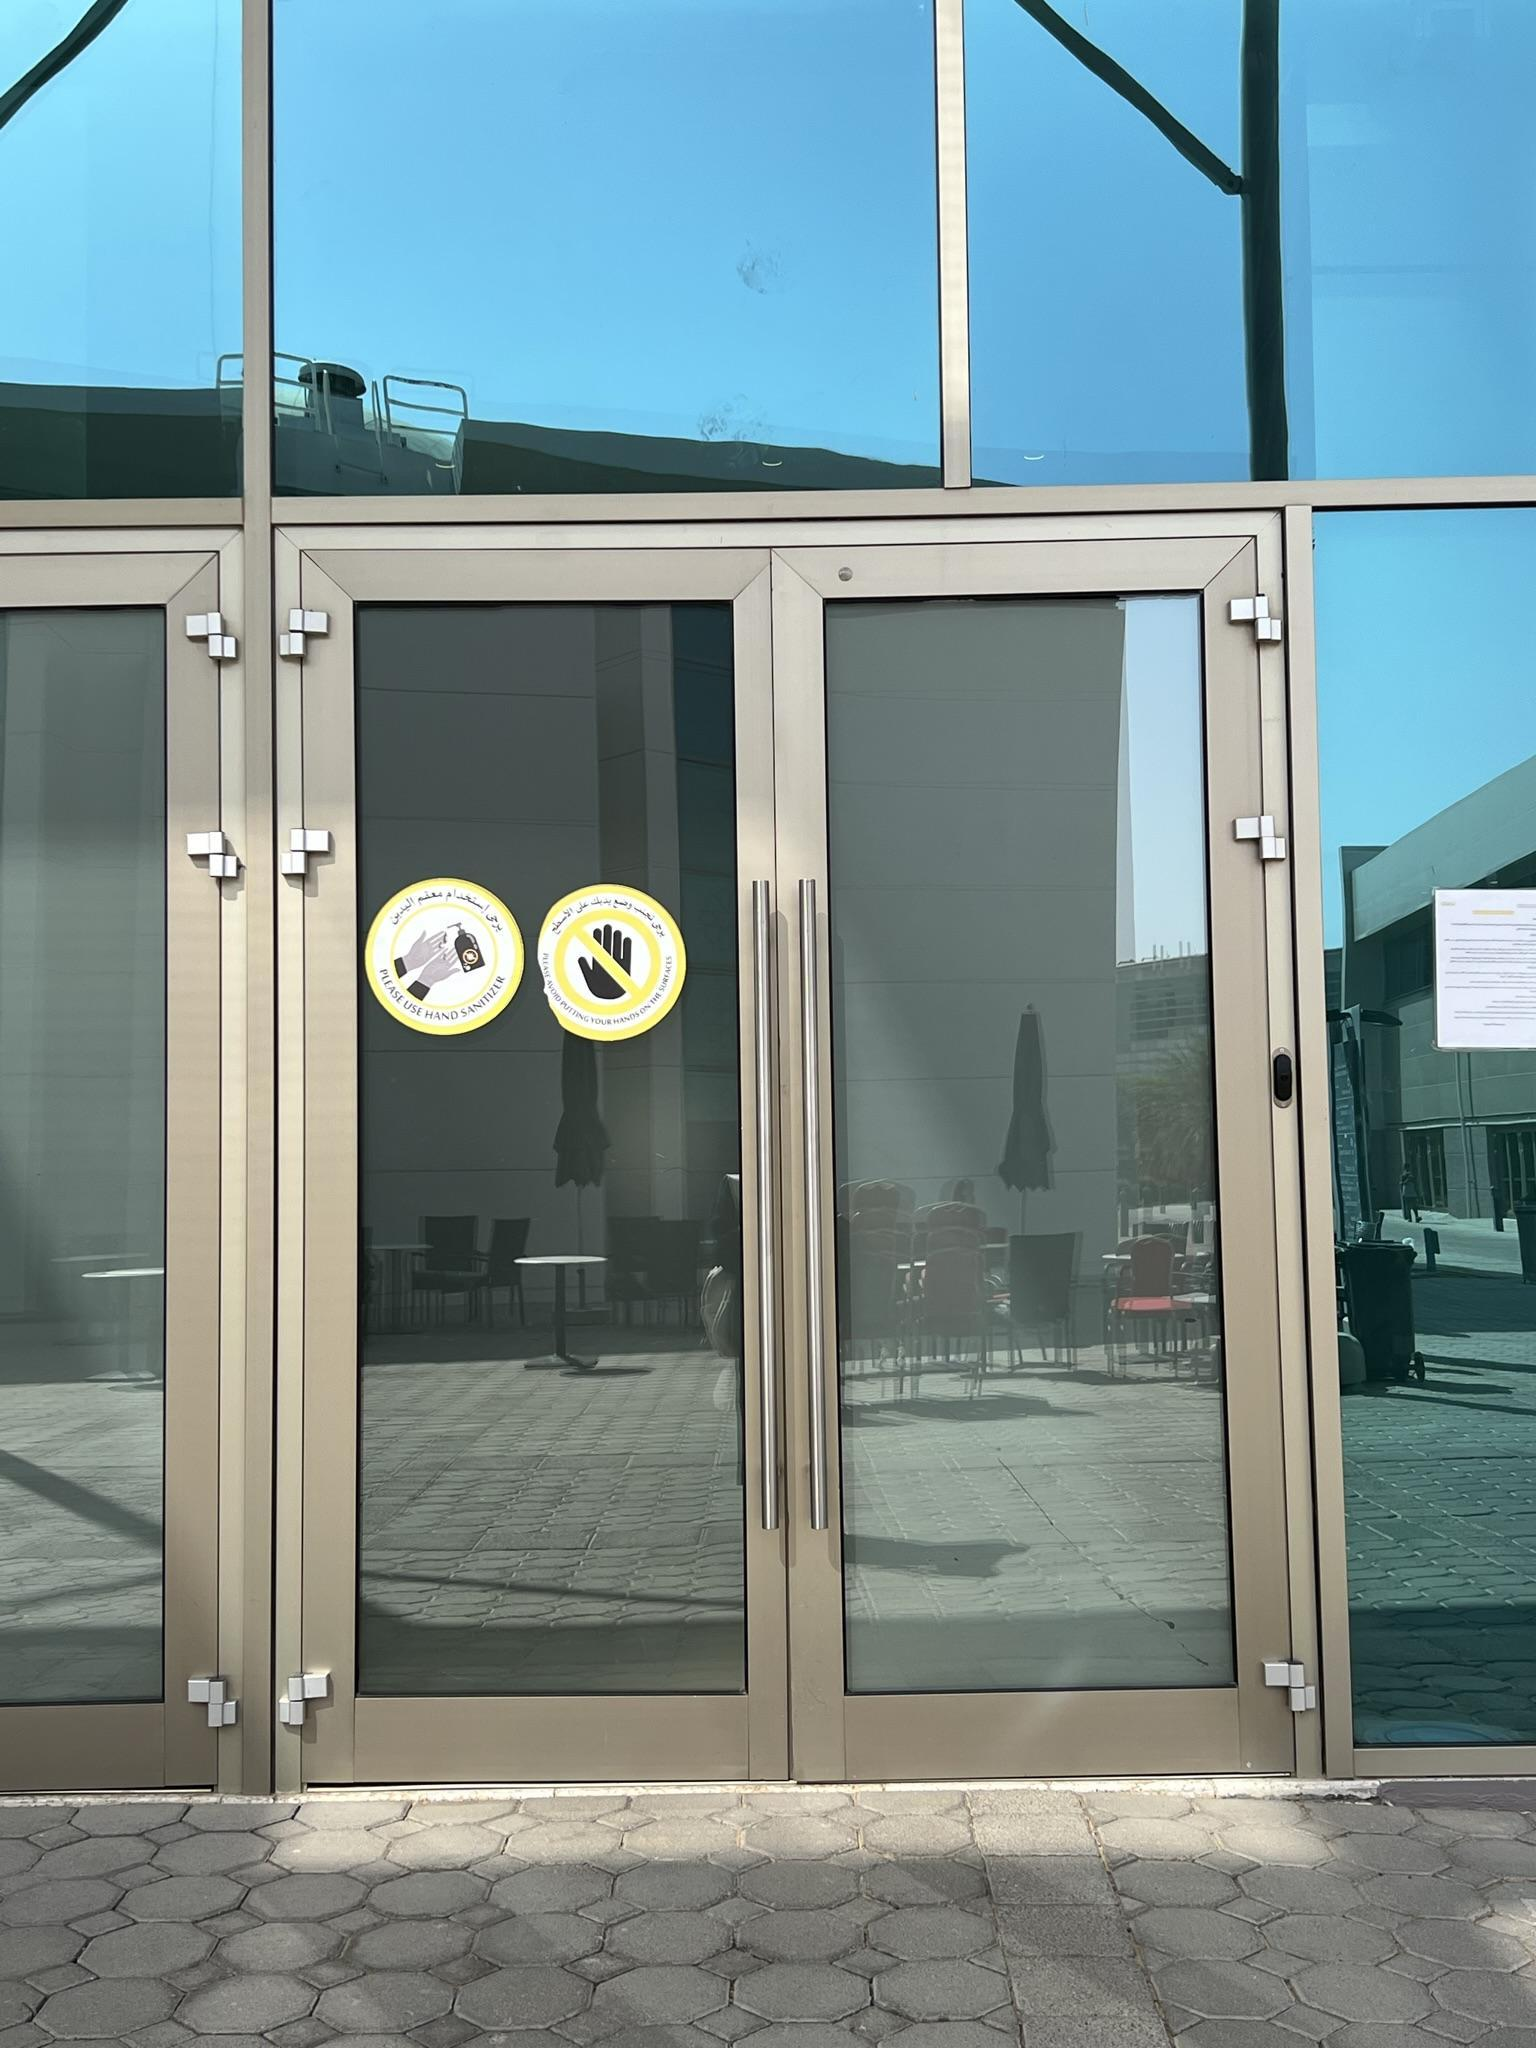door: (787, 556, 1313, 1779), (307, 526, 781, 1771)
handle: (792, 876, 837, 1538), (749, 872, 789, 1535)
